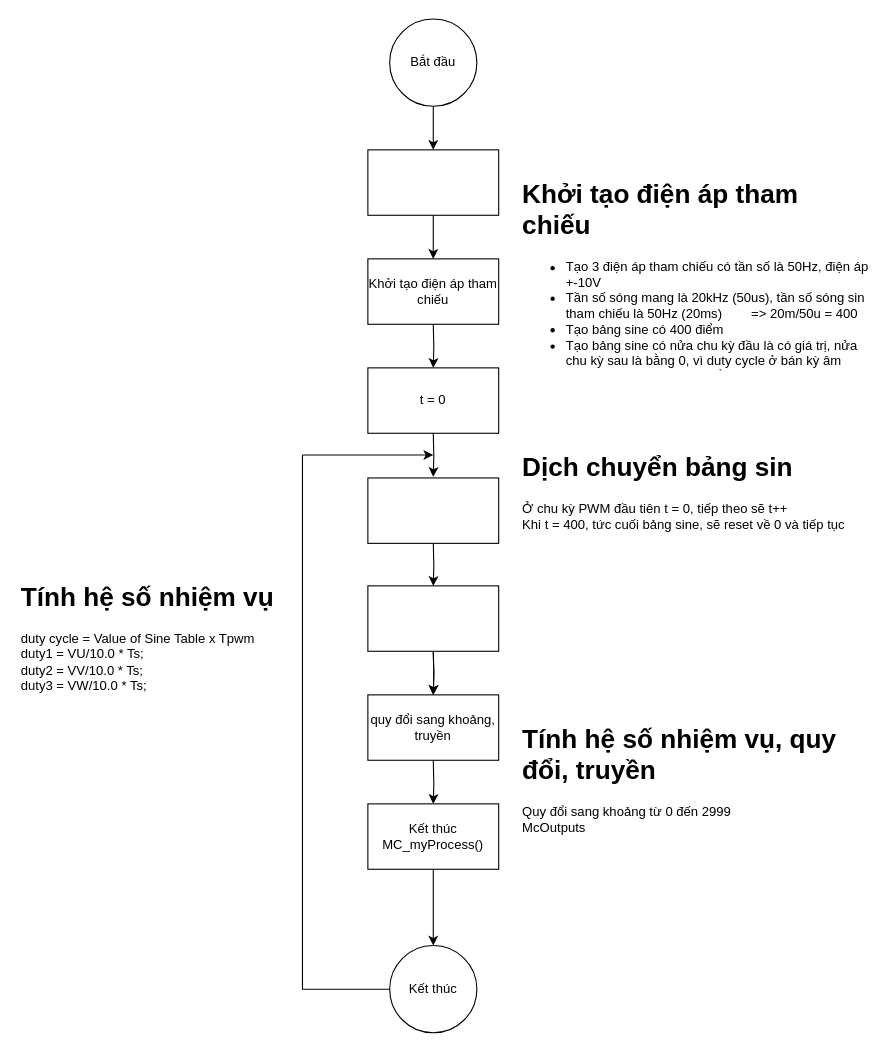
This 887x1052 diagram has some shape labels left out. The shapes that lost their labels are listed below. From the top down, each one's centre as x and y in pixels, then its label:
pixel 433 182: MC_myInit()
pixel 433 510: MC_myProcess(), t++
pixel 433 618: Tính hệ số nhiệm vụ
